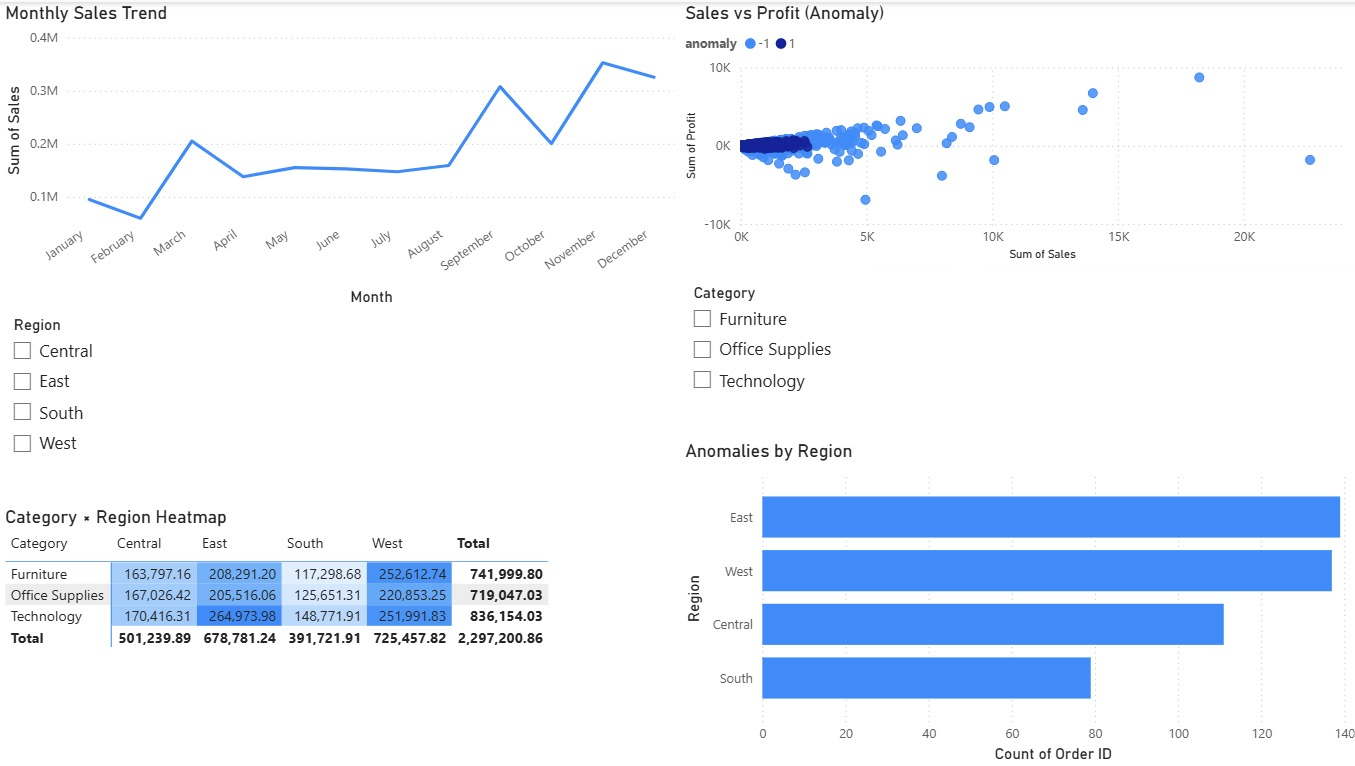

The dashboard page shown, as its layout file describes it:
{"tool":"powerbi","page":{"name":"Sales vs Profit (Anomaly)","canvas":[1280,720],"ordinal":0},"visuals":[{"type":"scatterChart","title":"Sales vs Profit (Anomaly)","fields":{"X":["Sum(final_superstore_anomaly.Sales)"],"Y":["Sum(final_superstore_anomaly.Profit)"],"Series":["final_superstore_anomaly.anomaly"],"Category":["final_superstore_anomaly.Order ID"]},"box":[640.3,0,640.3,248],"z":0},{"type":"lineChart","title":"Monthly Sales Trend","fields":{"Category":["final_superstore_anomaly.Order Date.Variation.Date Hierarchy.Month"],"Y":["Sum(final_superstore_anomaly.Sales)"]},"box":[0,0,639.8,289.9],"z":1000},{"type":"pivotTable","title":"Category × Region Heatmap","fields":{"Rows":["final_superstore_anomaly.Category"],"Columns":["final_superstore_anomaly.Region"],"Values":["Sum(final_superstore_anomaly.Sales)"]},"box":[0,474,639.8,245.5],"z":2000},{"type":"clusteredBarChart","title":"Anomalies by Region","fields":{"Category":["final_superstore_anomaly.Region"],"Y":["Count(final_superstore_anomaly.Order ID)"]},"box":[640.3,412.5,640.3,307.3],"z":3000},{"type":"slicer","fields":{"Values":["final_superstore_anomaly.Region"]},"box":[0,289.9,639.8,158],"z":4000},{"type":"slicer","fields":{"Values":["final_superstore_anomaly.Category"]},"box":[640.3,260.1,617.3,152.3],"z":5000}]}

Visuals, with their boxes in screenshot pixels (x1, y1, x2, y2), scaled from the page's 1280x720 canvas onto the 1355x766 screenshot:
"Sales vs Profit (Anomaly)" scatterChart: crop(678, 0, 1354, 264)
"Monthly Sales Trend" lineChart: crop(0, 0, 677, 308)
"Category × Region Heatmap" pivotTable: crop(0, 504, 677, 765)
"Anomalies by Region" clusteredBarChart: crop(678, 439, 1354, 765)
slicer - final_superstore_anomaly.Region: crop(0, 308, 677, 477)
slicer - final_superstore_anomaly.Category: crop(678, 277, 1331, 439)
